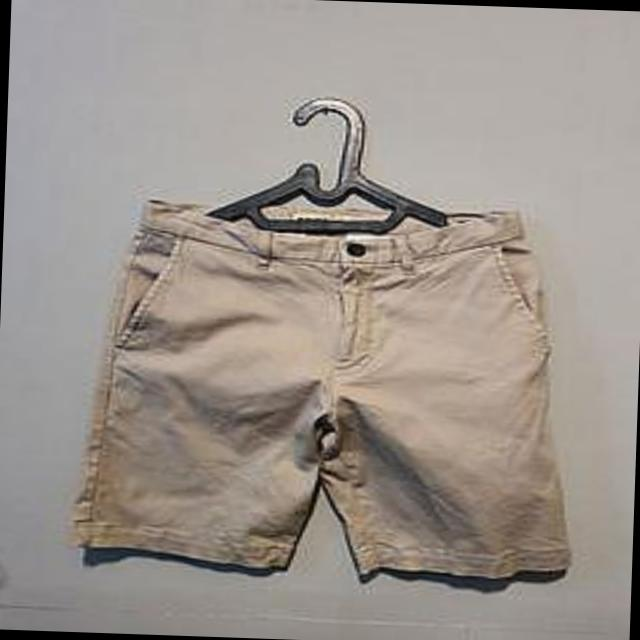SHORT: (62, 182, 589, 604)
